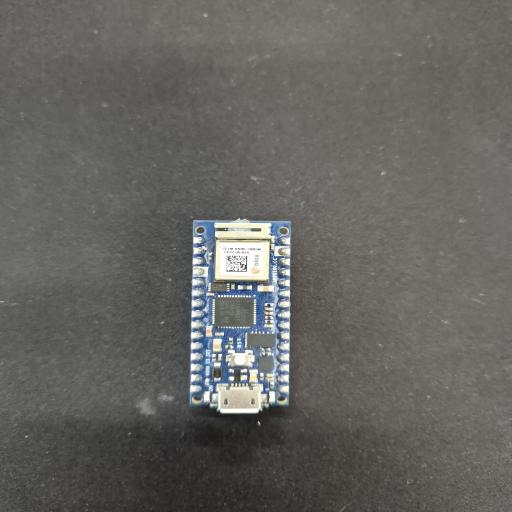arduino-nano-iot-33: (190, 219, 293, 425)
